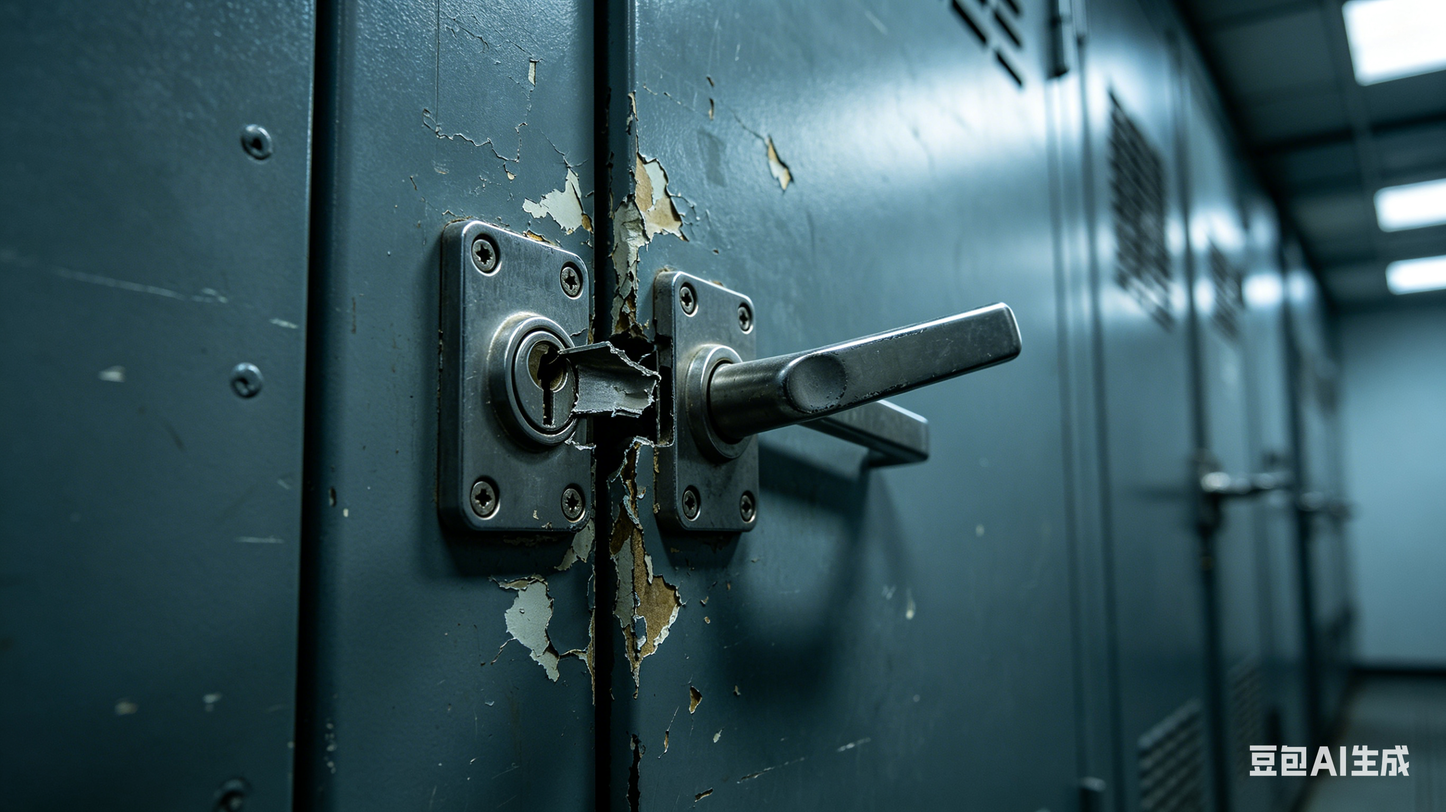BadLock: (543, 303, 684, 465)
